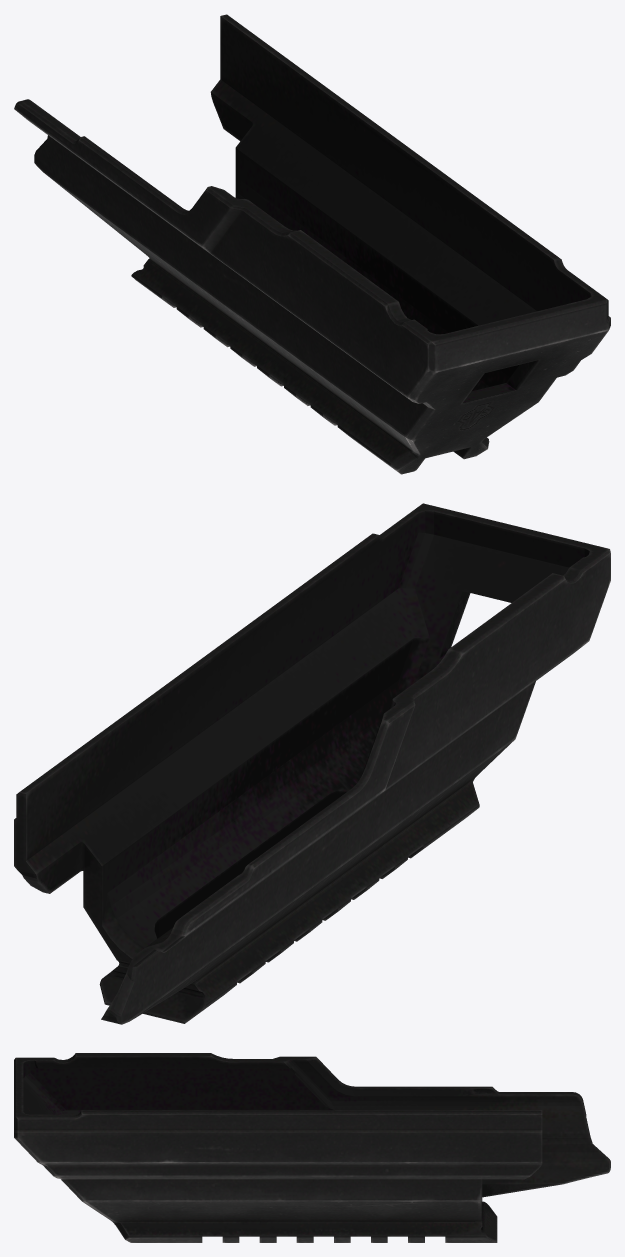
3 views of the same model, one above another, from view 1: azimuth 30°, elevation 25°; view 2: azimuth 150°, elevation 25°; view 3: azimuth 270°, elevation 25° (orthographic). The views are drawn at different scales.
Visible parts, largest first — view 1: TW_628b9be6cff66b70c002b14c_PZ_Import; view 2: TW_628b9be6cff66b70c002b14c_PZ_Import; view 3: TW_628b9be6cff66b70c002b14c_PZ_Import.
Boxes of the visible parts, x1,y1,x2,y2 form: TW_628b9be6cff66b70c002b14c_PZ_Import: (14,14,610,474); TW_628b9be6cff66b70c002b14c_PZ_Import: (14,503,610,1024); TW_628b9be6cff66b70c002b14c_PZ_Import: (14,1053,610,1242).
Bounding box in the file's own units: 0.0236 × 0.093 × 0.0252.
Materials: 1 (1 with a texture image).
